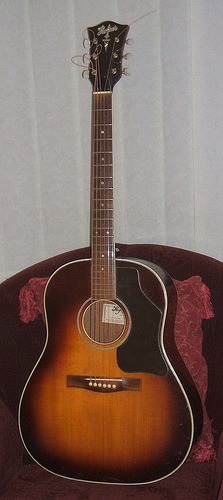guitar: (17, 21, 207, 487)
